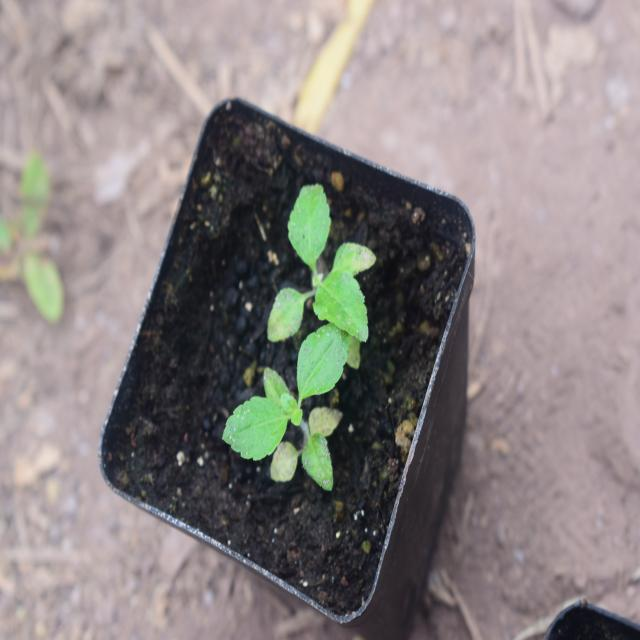billygoat_weed: (231, 323, 354, 488), (261, 175, 374, 352)
